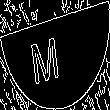M_N: (38, 26, 72, 84)
